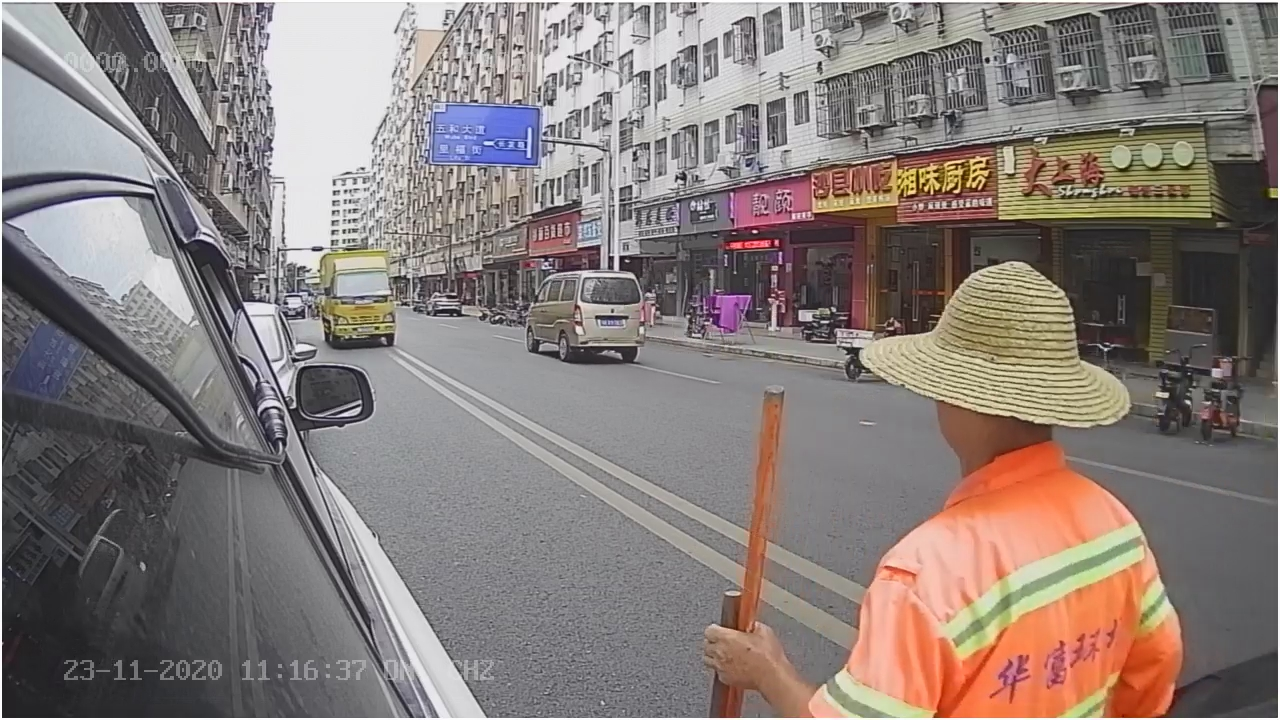person: (838, 262, 1200, 709)
